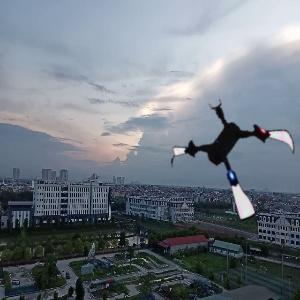drone: (171, 96, 300, 226)
